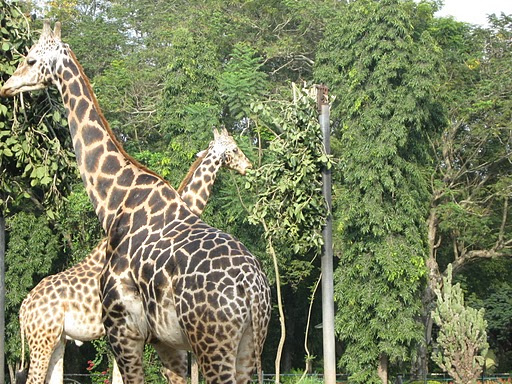giraffe: (18, 25, 269, 368), (37, 135, 270, 354)
